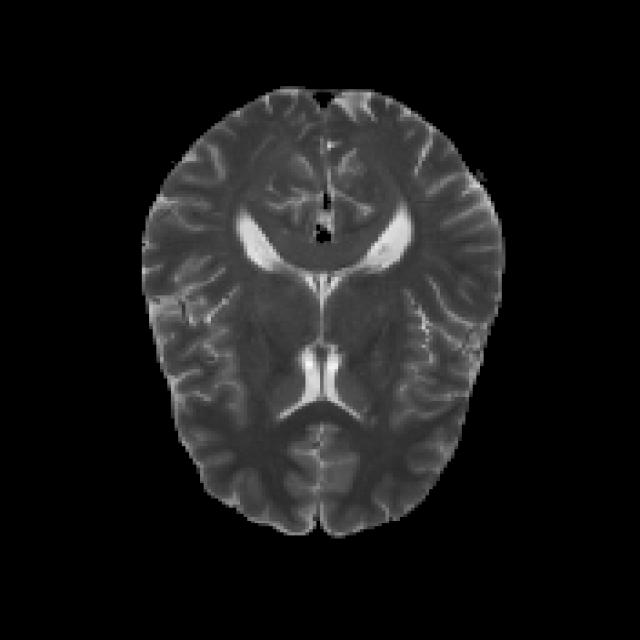CONTROL: (138, 83, 506, 535)
